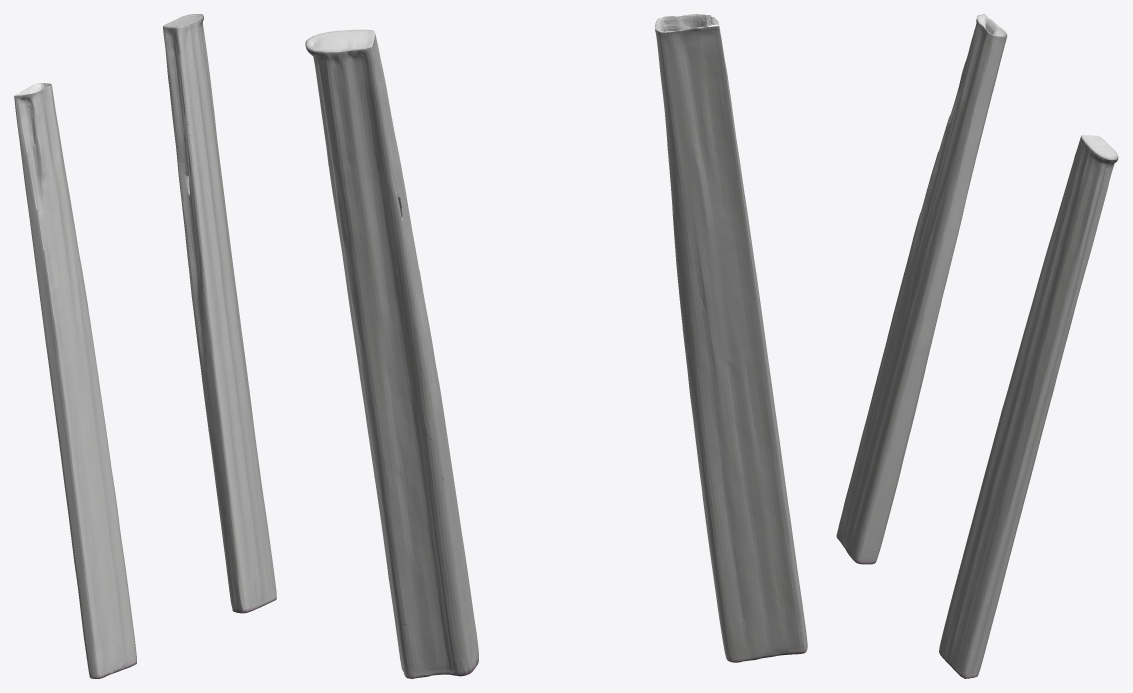
The model's file is white_curtains_on_middle_window_000.glb.
3 renders of one model, left to right at view 1: azimuth 30°, elevation 25°; view 2: azimuth 150°, elevation 25°; view 3: azimuth 270°, elevation 25°, orthographic. The views are drawn at different scales.
Visible parts, largest first — view 1: white_curtains_on_middle_window_000.obj; view 2: white_curtains_on_middle_window_000.obj; view 3: white_curtains_on_middle_window_000.obj.
Boxes of the visible parts, box(x1,y1,x2,y2) form: white_curtains_on_middle_window_000.obj: box(14, 14, 276, 678); white_curtains_on_middle_window_000.obj: box(305, 14, 807, 678); white_curtains_on_middle_window_000.obj: box(836, 14, 1118, 678).
Size of the model in its own units: 0.5961 by 1.27 by 0.5895.
1 material, 1 textured.
